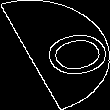O_W: (11, 26, 99, 84)
